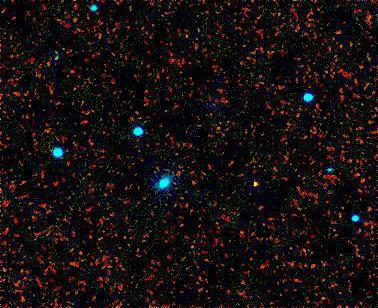star: (244, 166, 274, 196)
